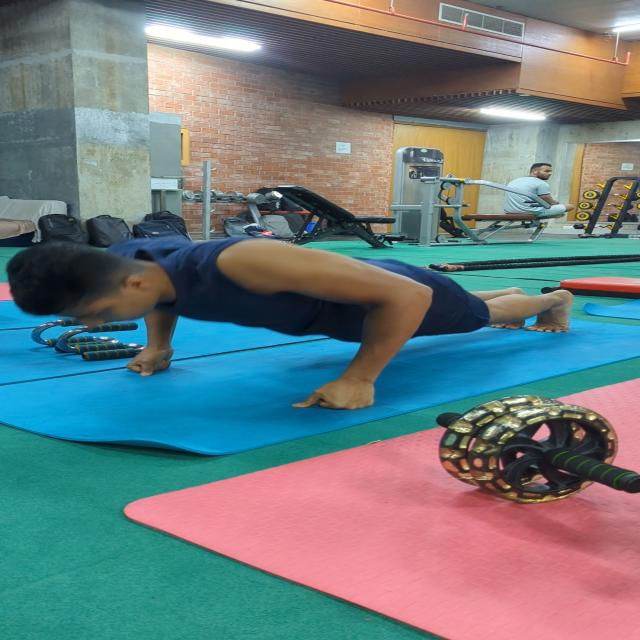Normal_PushUps: (6, 218, 601, 415)
